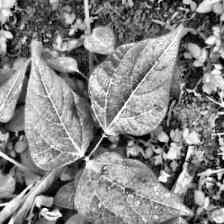ALS: (76, 149, 193, 224), (24, 53, 90, 163)
